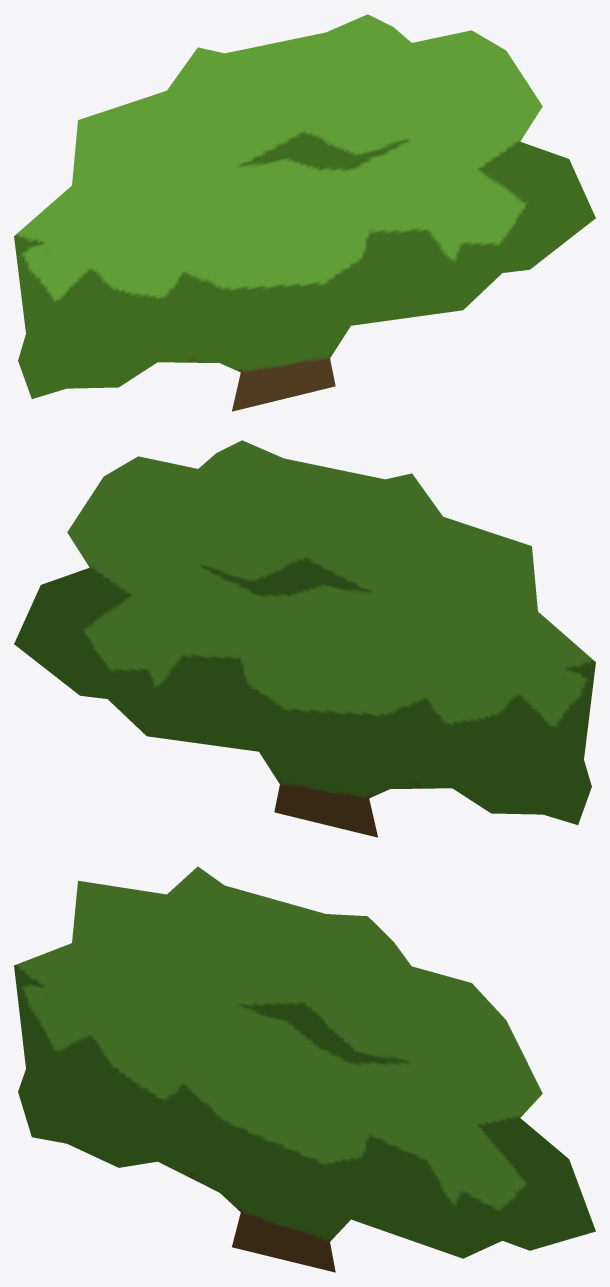
File: woodsC.fbx
3 views of the same model, one above another, from view 1: azimuth 30°, elevation 25°; view 2: azimuth 150°, elevation 25°; view 3: azimuth 330°, elevation 25° (orthographic).
Parts seen in each view (by area): view 1: woodsC; view 2: woodsC; view 3: woodsC.
Boxes of the visible parts, x1=… form: woodsC: x1=14, y1=14, x2=595, y2=411; woodsC: x1=14, y1=440, x2=595, y2=837; woodsC: x1=14, y1=866, x2=595, y2=1272.
Bounding box in the file's own units: 291 × 178 × 3.69e-14.
